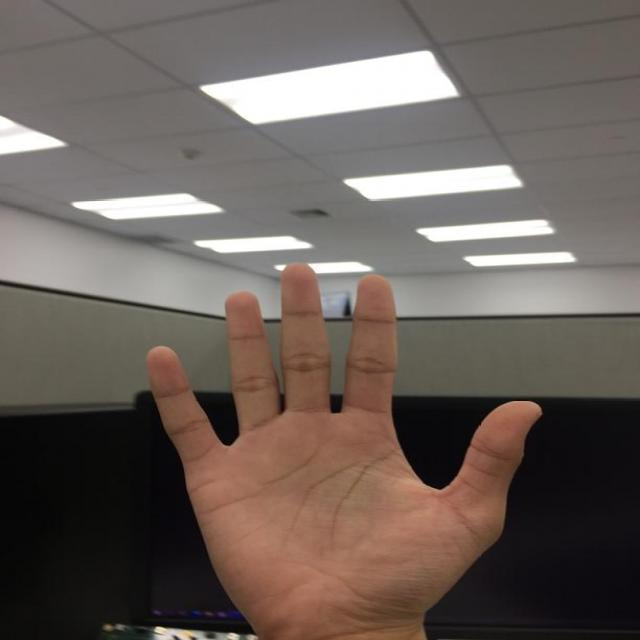hand: (141, 265, 548, 640)
